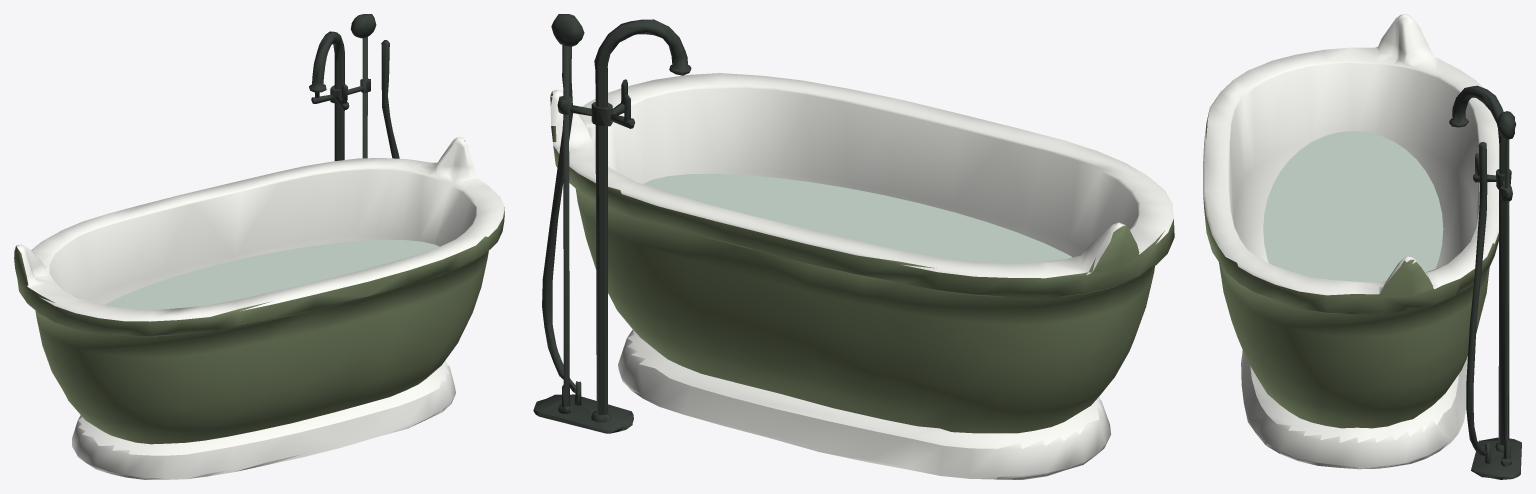
File: bath_tub.glb
The picture shows the model from 3 angles, left to right: view 1: azimuth 30°, elevation 25°; view 2: azimuth 150°, elevation 25°; view 3: azimuth 270°, elevation 25°; orthographic projection. The views are drawn at different scales.
Bounding box in the file's own units: 2.9 × 1.94 × 1.59.
